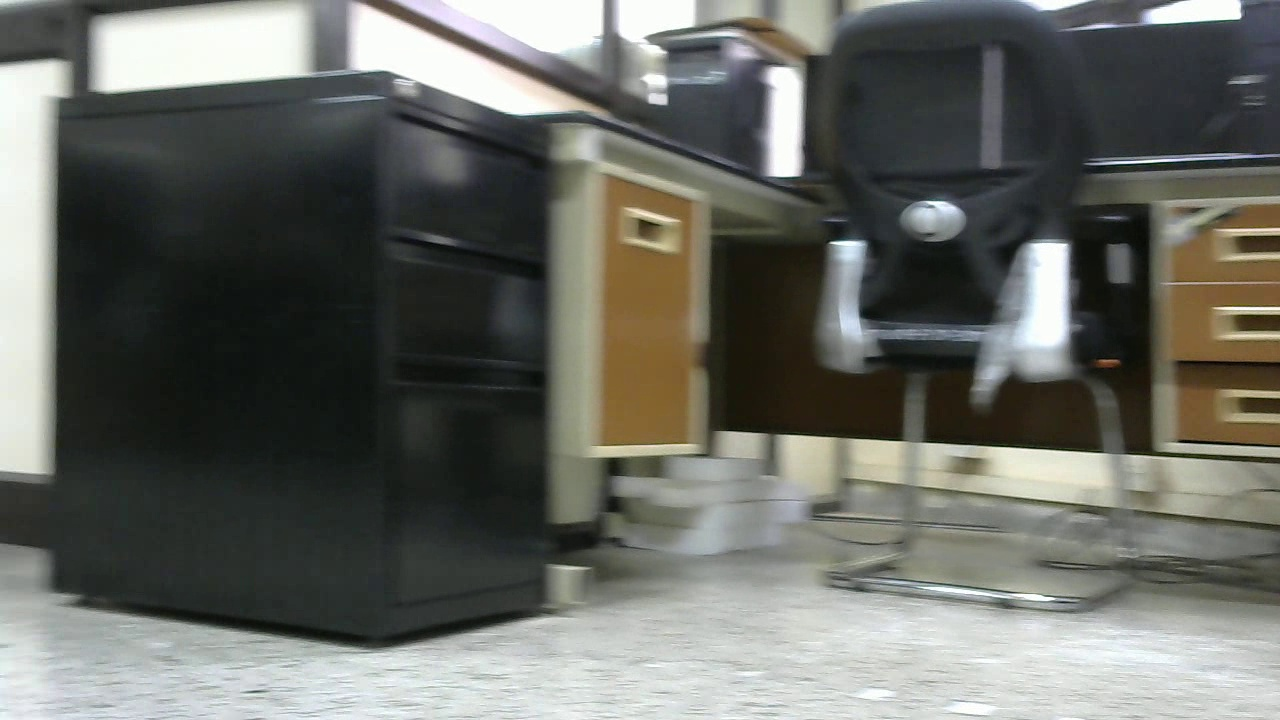chair: (808, 2, 1129, 614)
